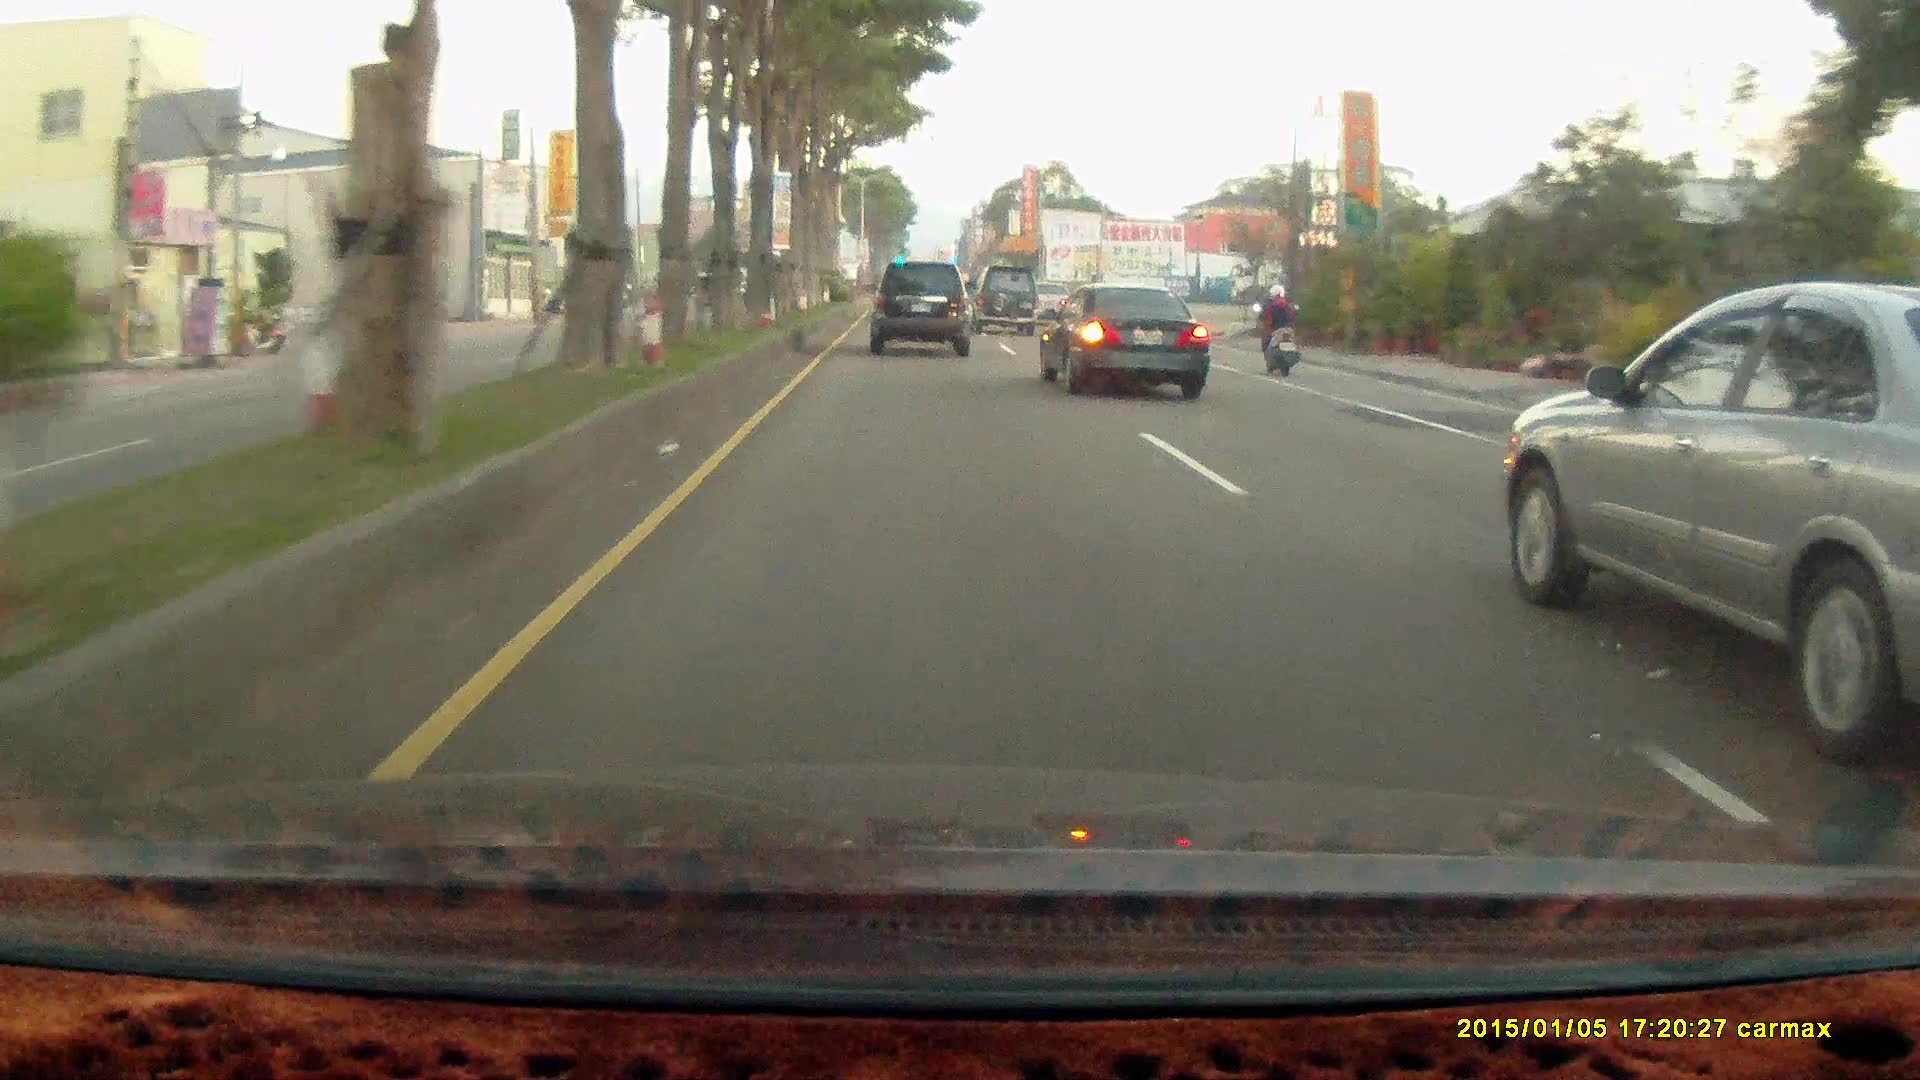rider: (1245, 272, 1313, 392), (1247, 280, 1300, 375)
vehicle: (1490, 291, 1919, 778), (1035, 289, 1213, 405), (1038, 281, 1209, 400), (865, 259, 969, 356), (1229, 258, 1434, 307), (869, 262, 973, 358), (966, 271, 1039, 344), (967, 263, 1039, 335)
